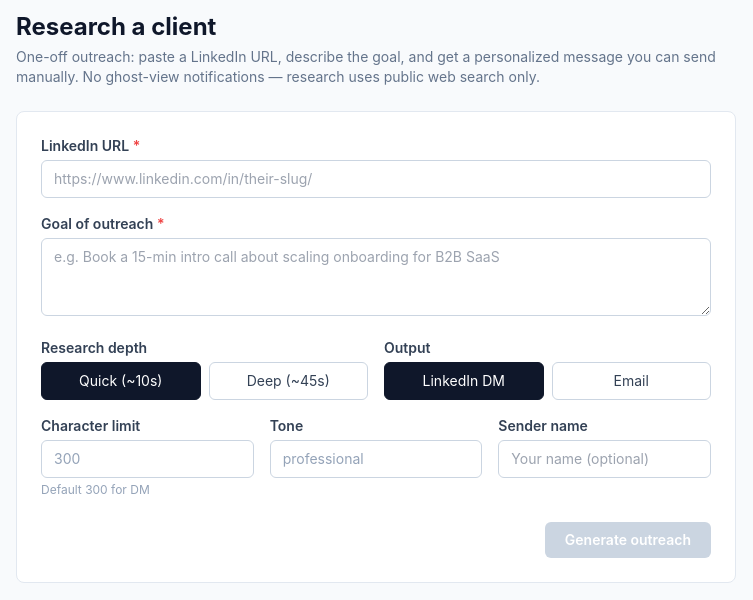
Test: ResearchClient page › swaps the default char limit when output kind toggles to email
Click the button with test id "output-email": (631, 381) [552,362,711,400]
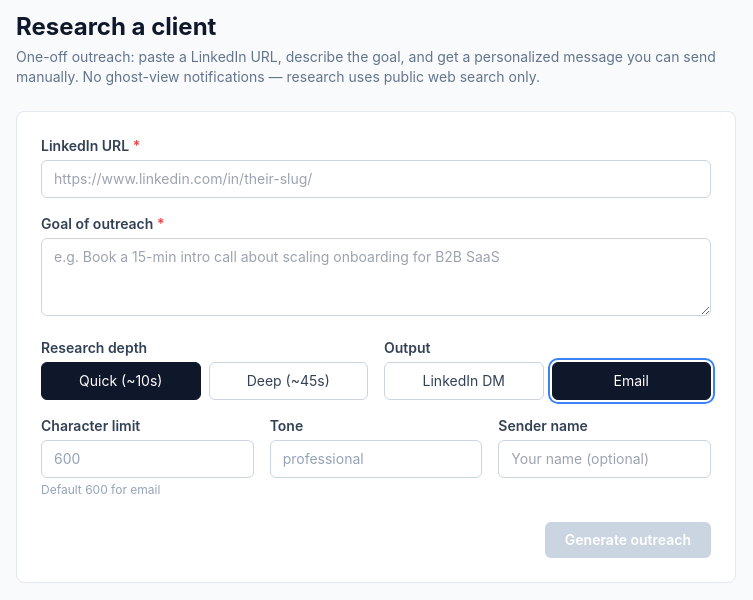
Expected: the number field with test id "input-char-limit" holds "600", [41,440,254,478]
Click the button with test id "output-dm": (464, 381) [384,362,544,400]
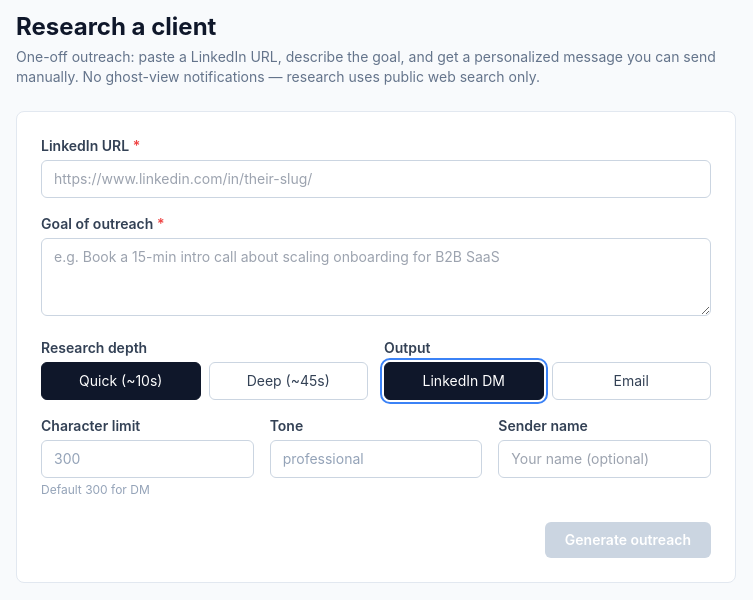
Expected: the number field with test id "input-char-limit" holds "300", [41,440,254,478]
